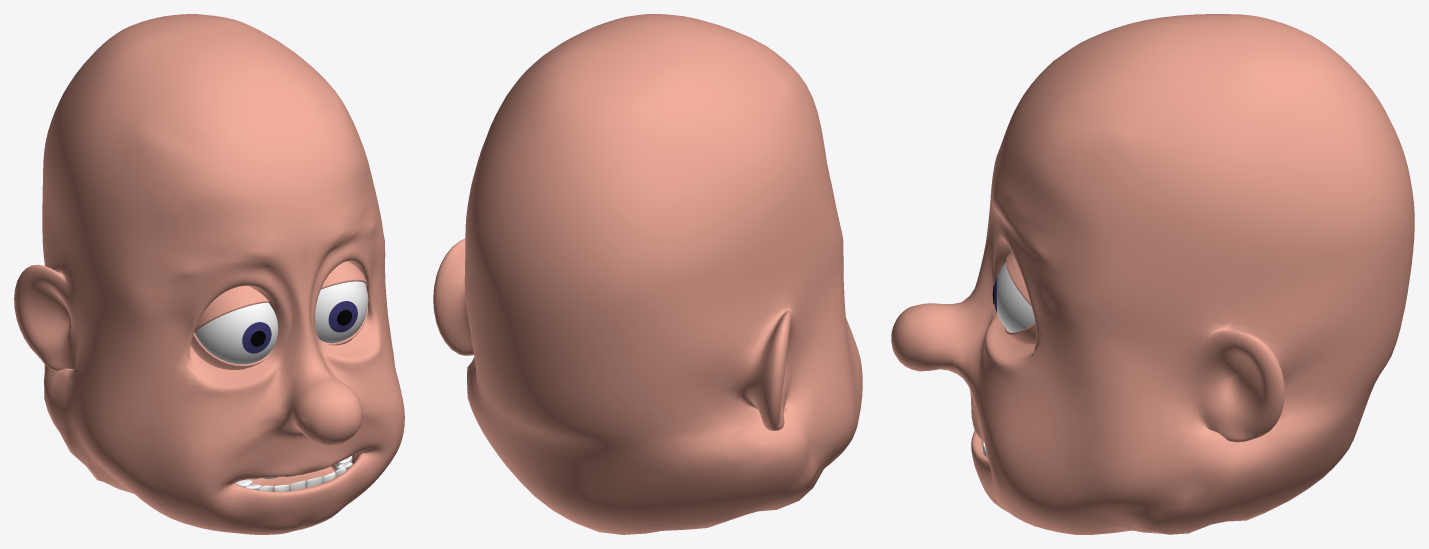
File: Head.FBX
3 renders of one model, left to right at view 1: azimuth 30°, elevation 25°; view 2: azimuth 150°, elevation 25°; view 3: azimuth 270°, elevation 25°, orthographic. The views are drawn at different scales.
Parts seen in each view (by area): view 1: Face, EyeR, EyeL, EyeLidTopR, Teeth, EyeLidTopL, EyeLidBottomR, IrisL, IrisR; view 2: Face; view 3: Face, EyeL.
Boxes of the visible parts, x1,y1,x2,y2 form: Face: (14,14,404,534); EyeR: (195,302,278,364); EyeL: (315,281,368,343); EyeLidTopR: (194,286,269,332); Teeth: (235,456,352,491); EyeLidTopL: (321,261,367,289); EyeLidBottomR: (190,333,266,369); IrisL: (328,301,357,332); IrisR: (242,322,271,353); Face: (433,14,862,534); Face: (891,14,1414,534); EyeL: (997,262,1035,332).
Size of the model in its own units: 137 by 182 by 185.
